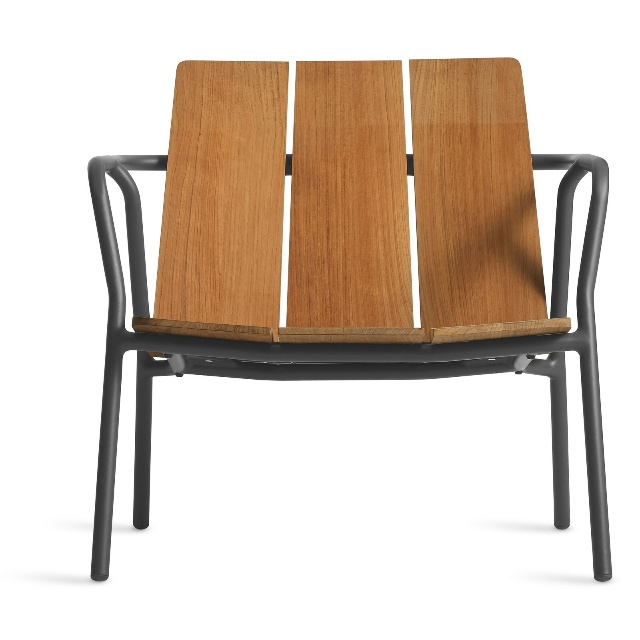obstacle: (88, 58, 611, 581)
